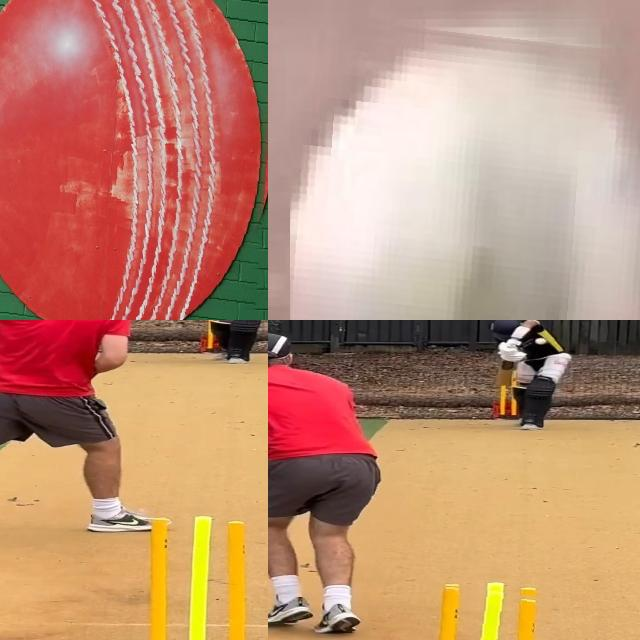Cricket ball: (290, 14, 640, 320), (0, 0, 268, 320), (534, 338, 547, 346)
Stumps: (128, 517, 264, 640), (423, 583, 552, 640)
